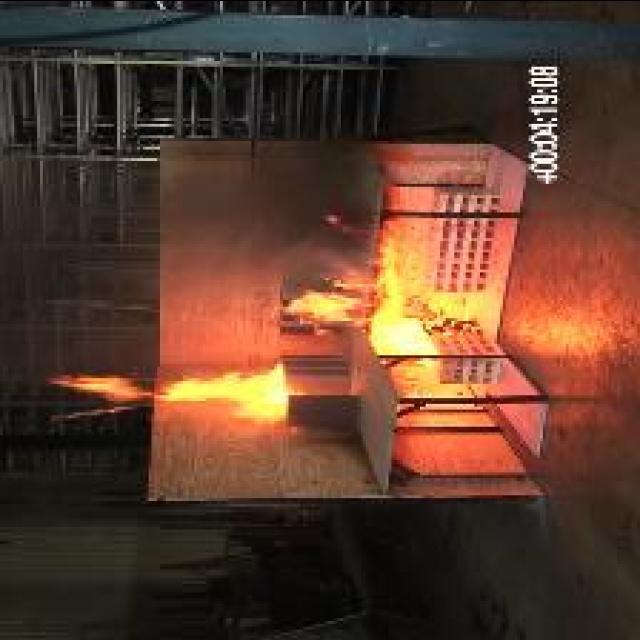Fire: (282, 216, 468, 350), (44, 364, 284, 419)
